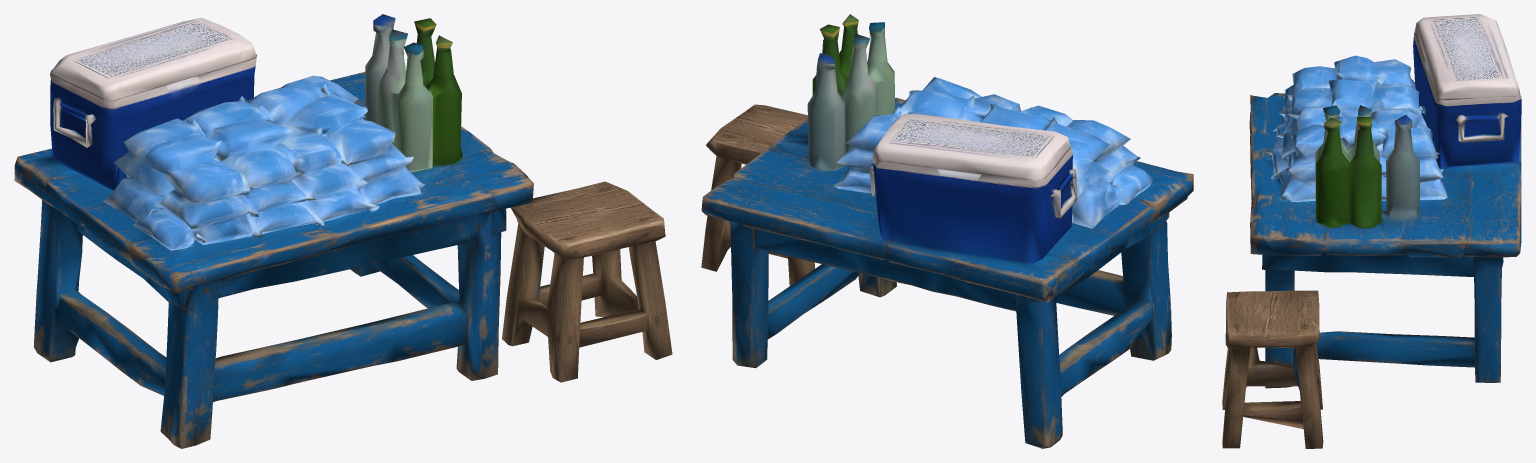
The model's file is vendor-table.glb.
The picture shows the model from 3 angles, left to right: view 1: azimuth 30°, elevation 25°; view 2: azimuth 150°, elevation 25°; view 3: azimuth 270°, elevation 25°; orthographic projection. The views are drawn at different scales.
Parts seen in each view (by area): view 1: tripo_node_14e153ae-4634-4f66-930c-bbcc98da64f2; view 2: tripo_node_14e153ae-4634-4f66-930c-bbcc98da64f2; view 3: tripo_node_14e153ae-4634-4f66-930c-bbcc98da64f2.
Part boxes in pixels (bbox=[...]): tripo_node_14e153ae-4634-4f66-930c-bbcc98da64f2: bbox=[14, 14, 672, 448]; tripo_node_14e153ae-4634-4f66-930c-bbcc98da64f2: bbox=[701, 14, 1193, 448]; tripo_node_14e153ae-4634-4f66-930c-bbcc98da64f2: bbox=[1222, 14, 1521, 448].
Bounding box in the file's own units: 1 × 0.6183 × 0.634.
1 material, 1 textured.
